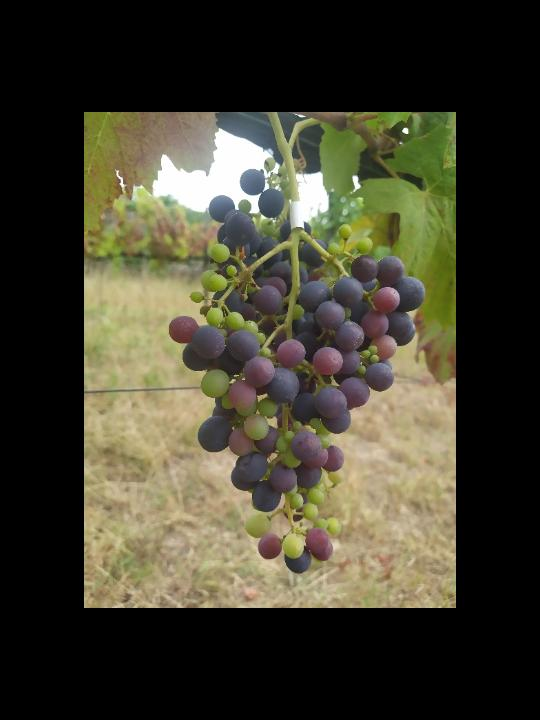grape: (168, 157, 427, 576)
